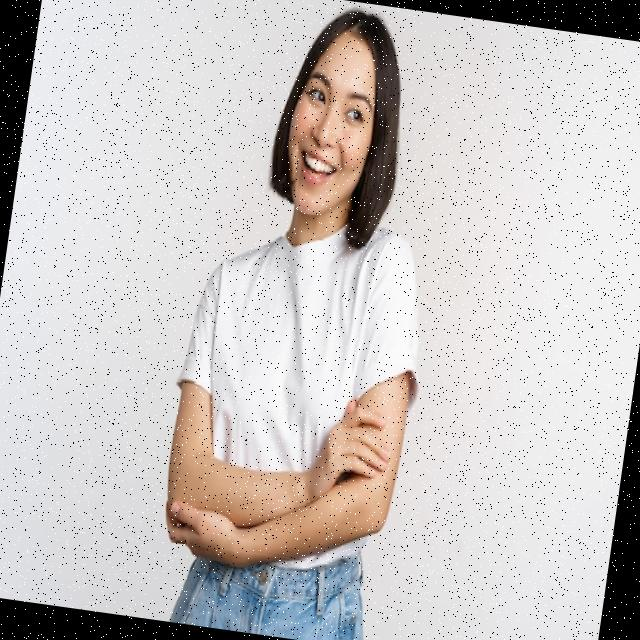Person: (144, 0, 469, 640)
